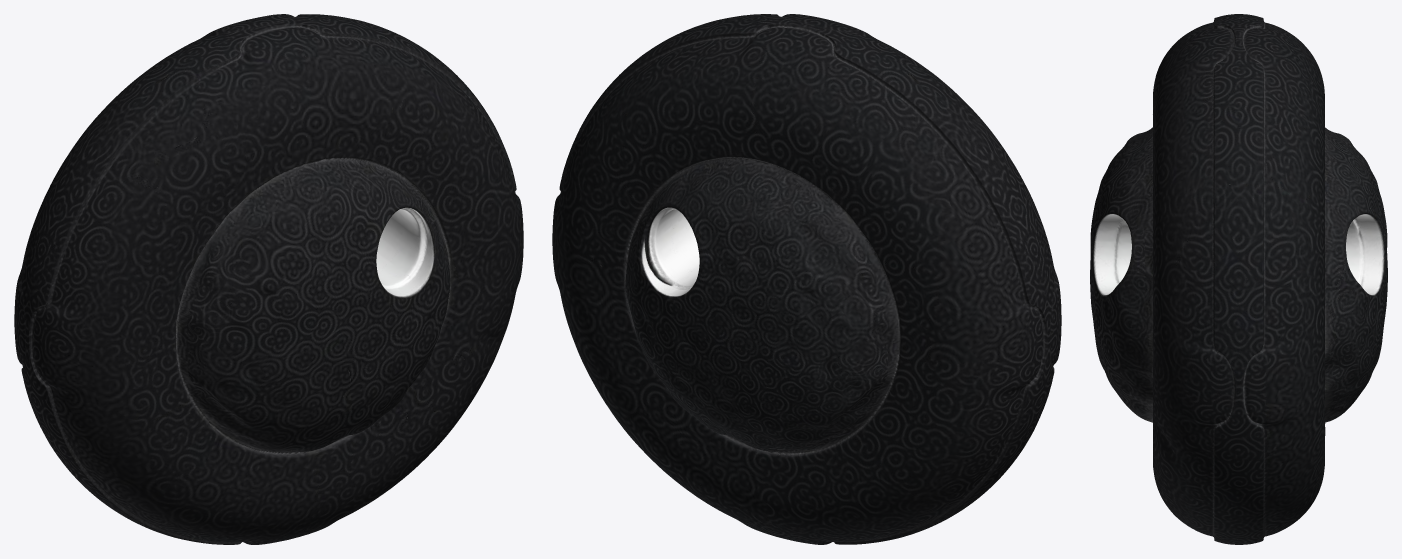
The model's file is Pupil.glb.
3 views of the same model, side by side, from view 1: azimuth 30°, elevation 25°; view 2: azimuth 150°, elevation 25°; view 3: azimuth 270°, elevation 25° (orthographic). The views are drawn at different scales.
Size of the model in its own units: 1.9 by 1.9 by 1.06.
1 material, 1 textured.
